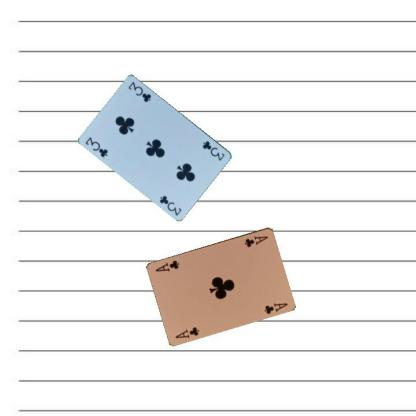3c: (200, 138, 226, 162), (83, 134, 109, 158)
Ac: (242, 234, 269, 249), (173, 324, 200, 339)
